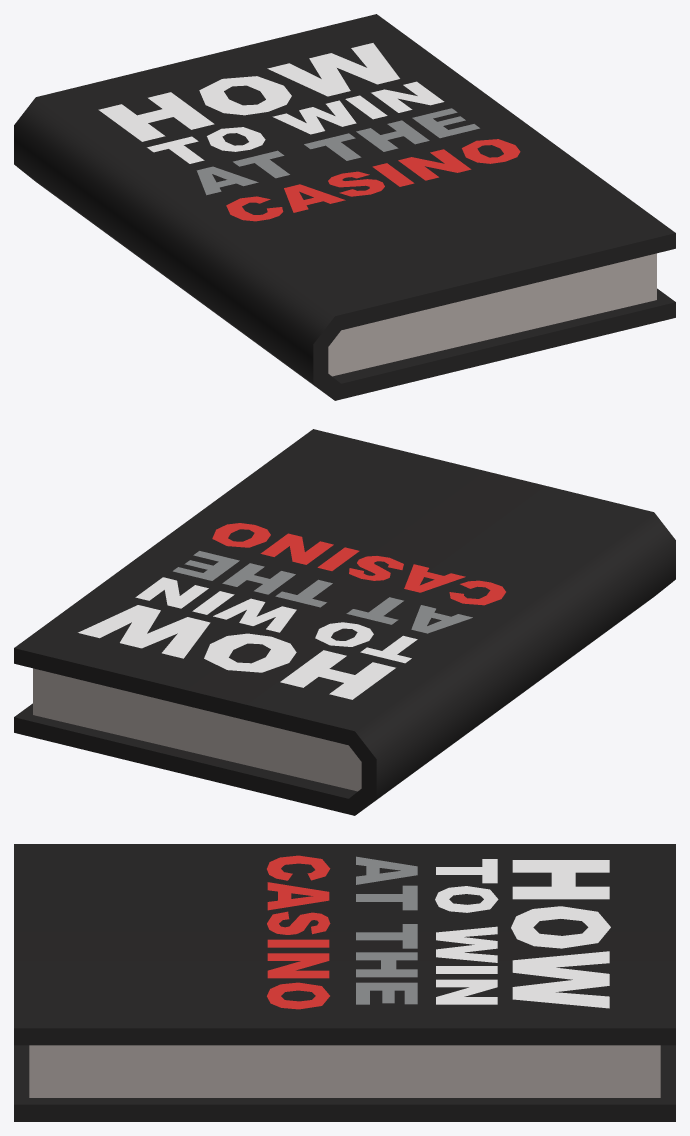
The model's file is Book_01.obj.
3 renders of one model, top to bottom at view 1: azimuth 30°, elevation 25°; view 2: azimuth 150°, elevation 25°; view 3: azimuth 270°, elevation 25°, orthographic. The views are drawn at different scales.
Parts seen in each view (by area): view 1: Book_01; view 2: Book_01; view 3: Book_01.
Boxes of the visible parts, left/top/right/bottom form: Book_01: left=14, top=14, right=675, bottom=400; Book_01: left=14, top=429, right=675, bottom=815; Book_01: left=14, top=844, right=675, bottom=1121.
Size of the model in its own units: 0.2983 by 0.0677 by 0.4263.
Materials: 1 (1 with a texture image).
